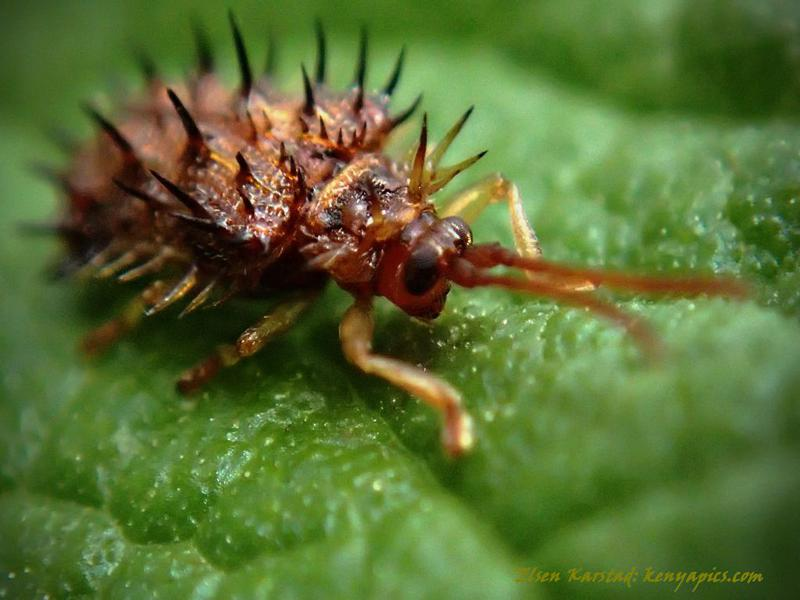Spiny_beetle: (53, 45, 511, 347)
